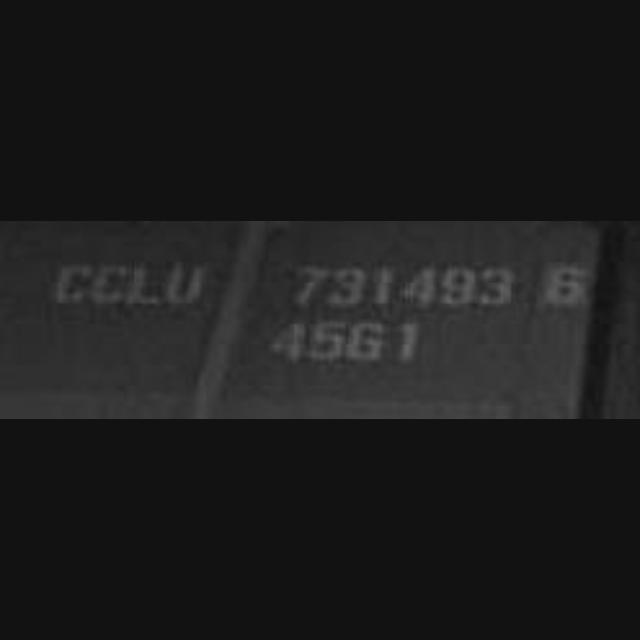1: (392, 316, 430, 370), (366, 258, 399, 312)
3: (326, 260, 368, 312), (479, 260, 519, 312)
4: (401, 254, 443, 316), (268, 316, 308, 368)
5: (308, 315, 350, 367)
6: (544, 260, 590, 314)
7: (289, 260, 331, 310)
9: (442, 254, 480, 314)
c: (52, 259, 96, 309), (94, 258, 126, 310)
g: (348, 316, 390, 368)
l: (125, 256, 164, 312)
u: (166, 256, 204, 310)
